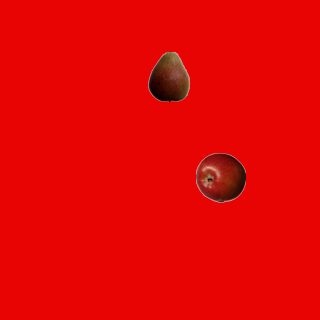Apple Braeburn: (195, 152, 245, 202)
Pear Forelle: (143, 51, 193, 101)
